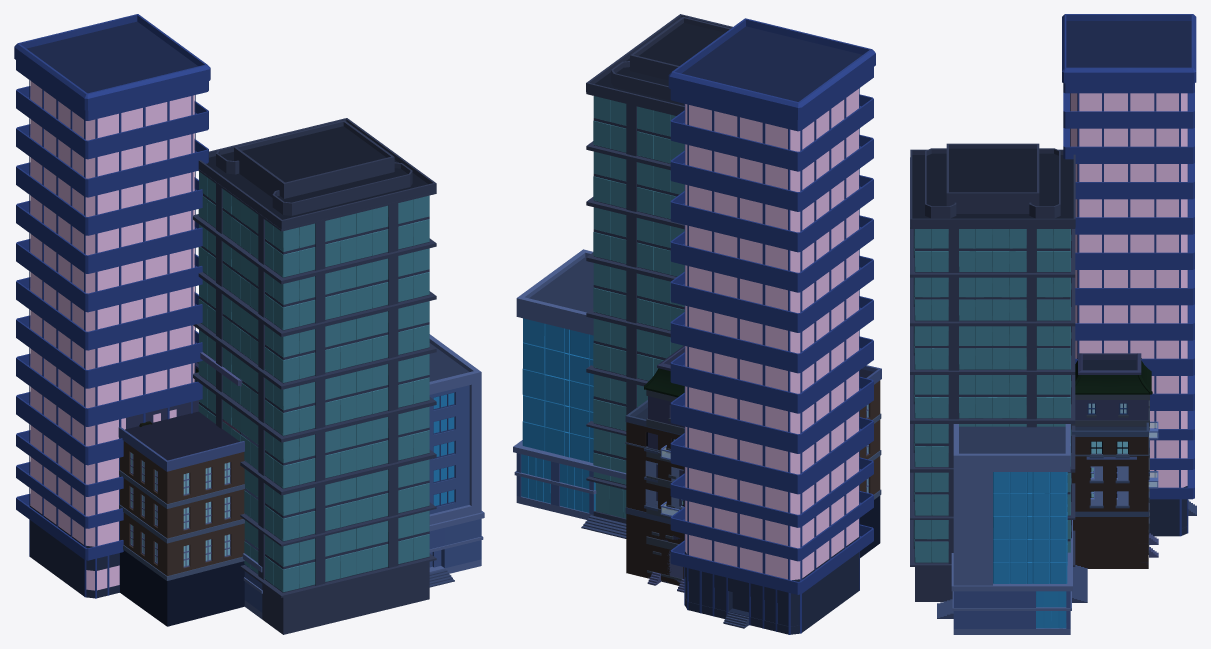
File: BuildingTest3.fbx
3 renders of one model, left to right at view 1: azimuth 30°, elevation 25°; view 2: azimuth 150°, elevation 25°; view 3: azimuth 270°, elevation 25°, orthographic. The views are drawn at different scales.
Parts seen in each view (by area): view 1: skyB-Model.002, skyD-Model.002, cornerD-Model.002, skyA-Model.002, NOcornerC-Model.002; view 2: skyD-Model.002, skyB-Model.002, skyA-Model.002, cornerA-Model.002, cornerC-Model.002, cornerD-Model.002, cornerB-Model.002; view 3: skyB-Model.002, skyD-Model.002, skyA-Model.002, cornerA-Model.002, cornerC-Model.002, cornerB-Model.002.
Part boxes in pixels (bbox=[...]): skyB-Model.002: bbox=[193, 118, 436, 634]; skyD-Model.002: bbox=[14, 14, 210, 598]; cornerD-Model.002: bbox=[118, 411, 244, 626]; skyA-Model.002: bbox=[241, 334, 484, 618]; NOcornerC-Model.002: bbox=[126, 400, 198, 428]; skyD-Model.002: bbox=[668, 18, 875, 634]; skyB-Model.002: bbox=[586, 14, 732, 523]; skyA-Model.002: bbox=[513, 249, 626, 538]; cornerA-Model.002: bbox=[625, 400, 684, 585]; cornerC-Model.002: bbox=[644, 345, 684, 592]; cornerD-Model.002: bbox=[859, 365, 881, 557]; cornerB-Model.002: bbox=[625, 442, 683, 511]; skyB-Model.002: bbox=[910, 143, 1075, 601]; skyD-Model.002: bbox=[1062, 14, 1196, 536]; skyA-Model.002: bbox=[937, 424, 1087, 634]; cornerA-Model.002: bbox=[1072, 422, 1149, 568]; cornerC-Model.002: bbox=[1072, 353, 1158, 557]; cornerB-Model.002: bbox=[1075, 437, 1149, 564].
Size of the model in its own units: 64.98 by 93.2 by 51.51.
